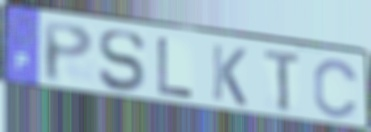C: (312, 57, 361, 121)
K: (210, 41, 249, 109)
L: (155, 35, 196, 101)
P: (40, 19, 96, 86)
S: (96, 29, 148, 95)
T: (262, 48, 303, 114)
